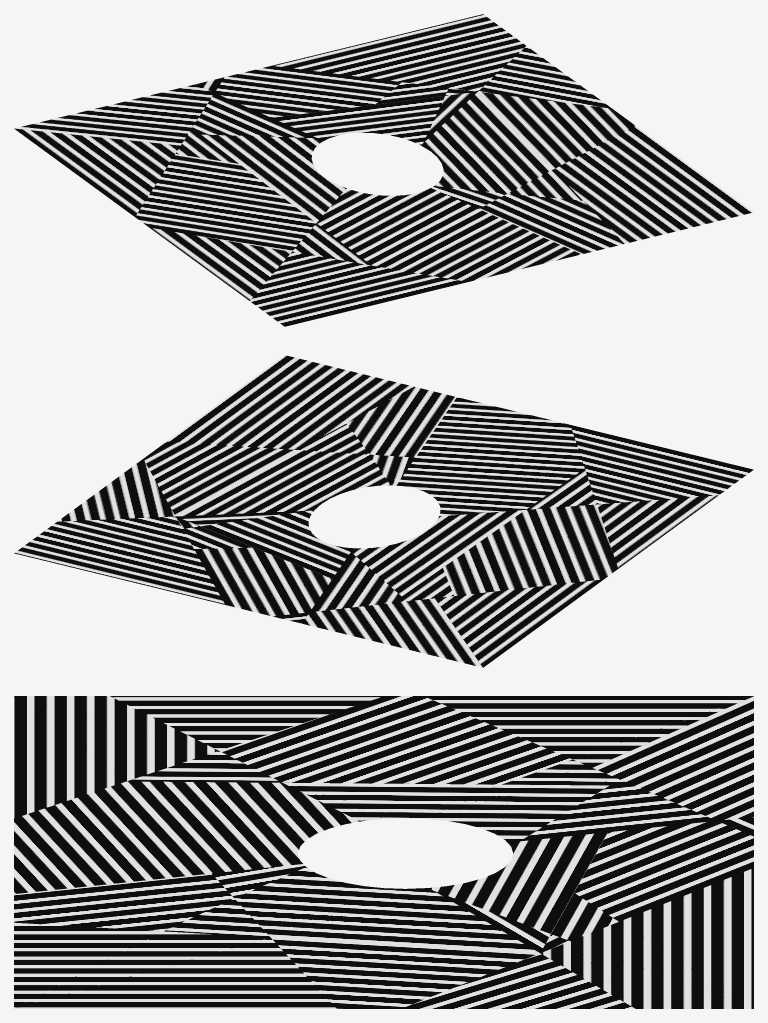
File: FLOOR.glb
The picture shows the model from 3 angles, top to bottom: view 1: azimuth 30°, elevation 25°; view 2: azimuth 150°, elevation 25°; view 3: azimuth 270°, elevation 25°; orthographic projection. The views are drawn at different scales.
Parts seen in each view (by area): view 1: FLOOR; view 2: FLOOR; view 3: FLOOR.
Boxes of the visible parts, bbox=[...] form: FLOOR: bbox=[14, 14, 753, 326]; FLOOR: bbox=[14, 355, 753, 667]; FLOOR: bbox=[14, 696, 753, 1008].
Bounding box in the file's own units: 67.59 × 0 × 67.59.
1 material, 1 textured.
